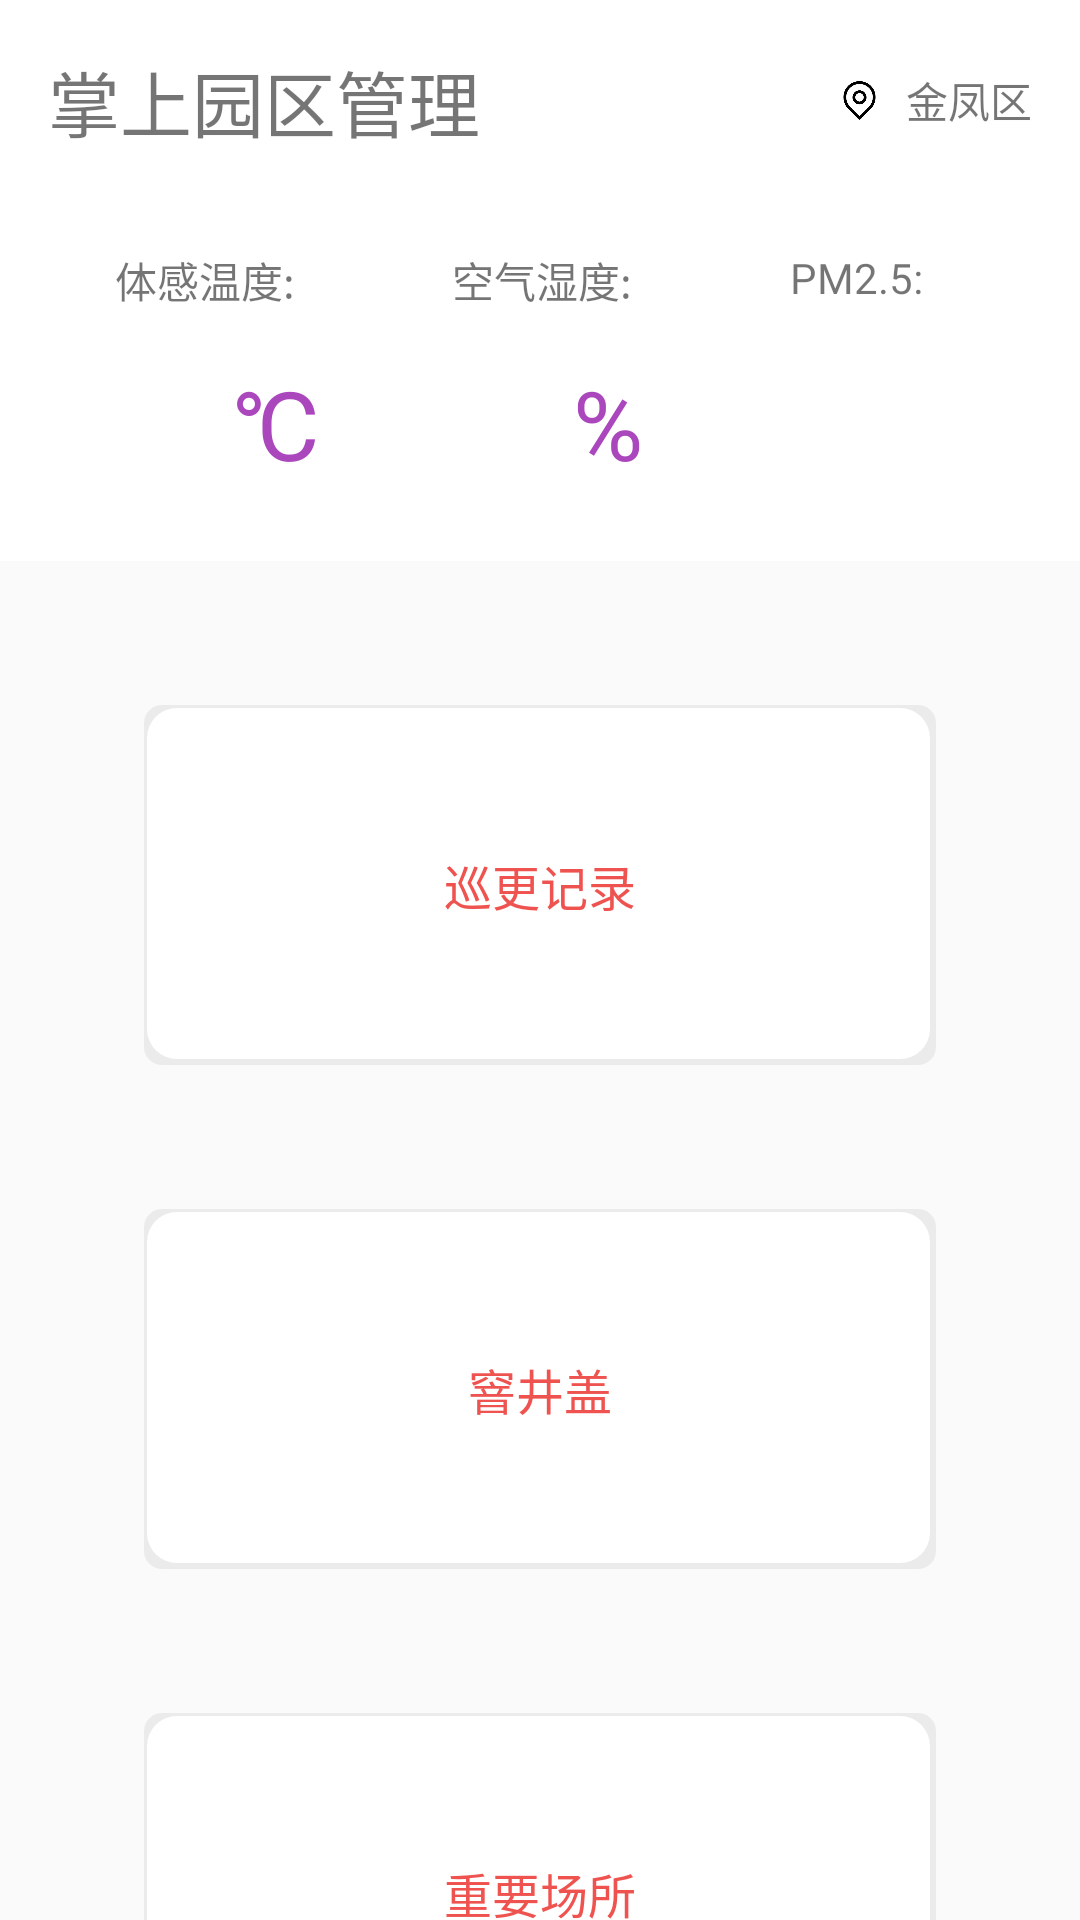

Where icons sit on this 1080w x 1920h app screen, as {"left": x1, "top": y1, "right": x2, "bottom": y2}:
localtion: {"left": 843, "top": 81, "right": 876, "bottom": 120}
